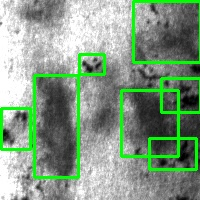inclusion: (149, 138, 196, 169), (161, 78, 200, 112), (1, 108, 30, 149), (79, 54, 104, 74)
patches: (34, 75, 78, 177), (133, 1, 200, 62), (121, 90, 178, 156)
